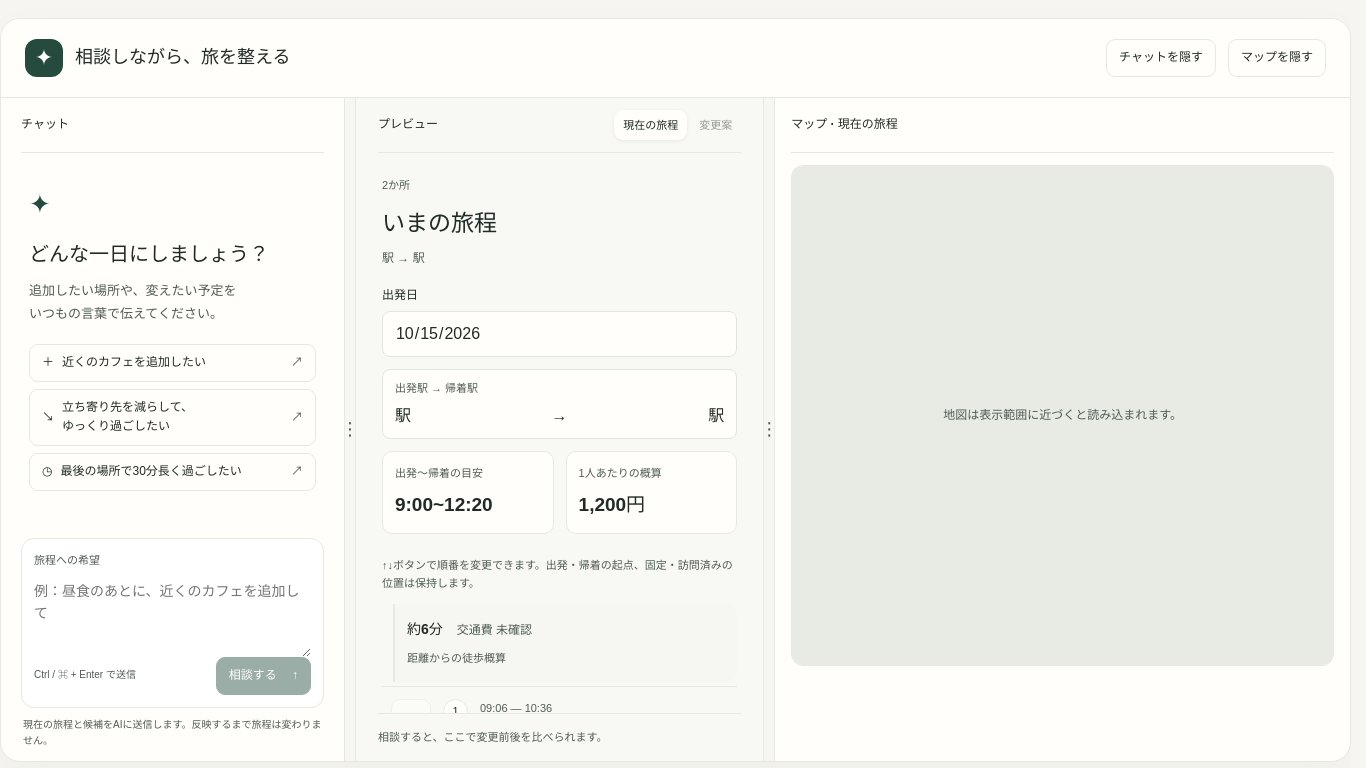
Test: JourneyChat › shows unavailable status without applying a fallback edit
In the text box labelled "旅程への希望": (172, 613) [34,570,311,657], type "休憩したい"
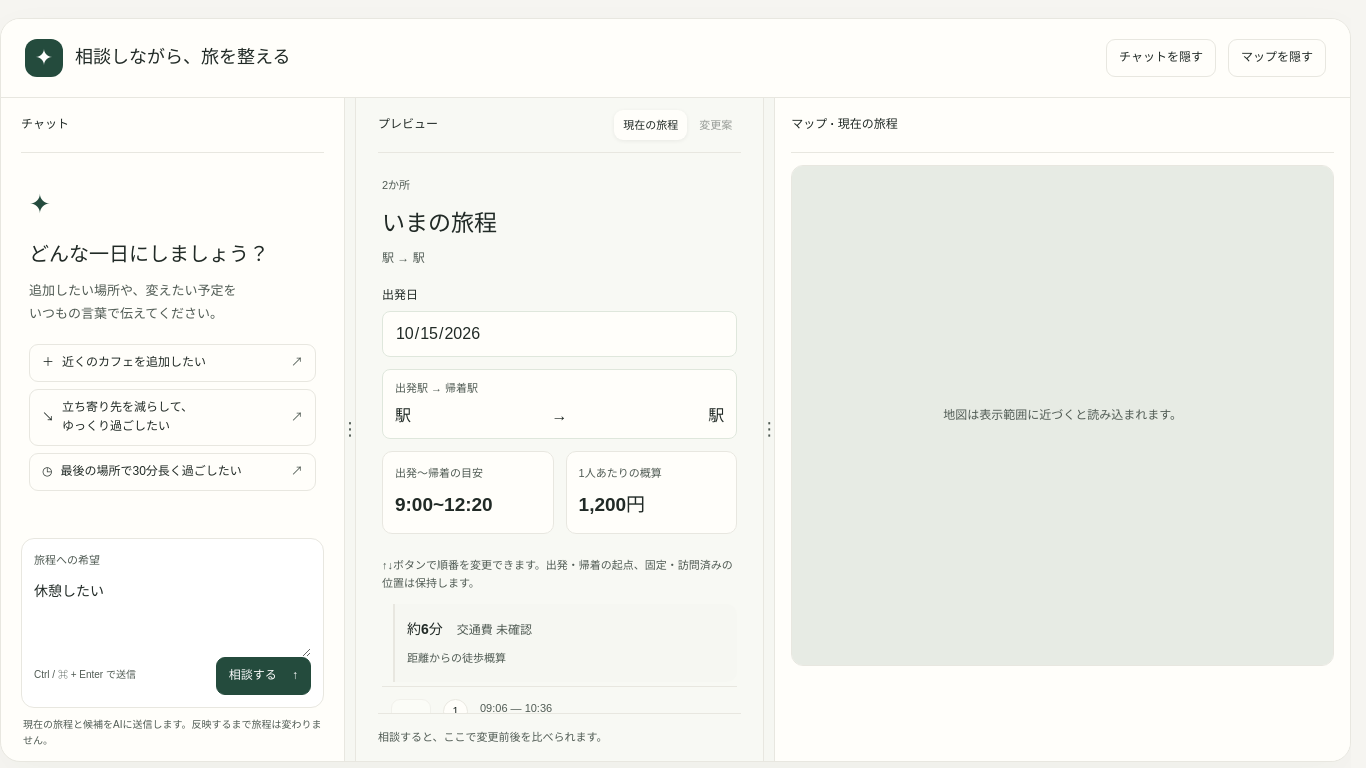
Click the button "相談する ↑": click(263, 676) [216,657,311,695]
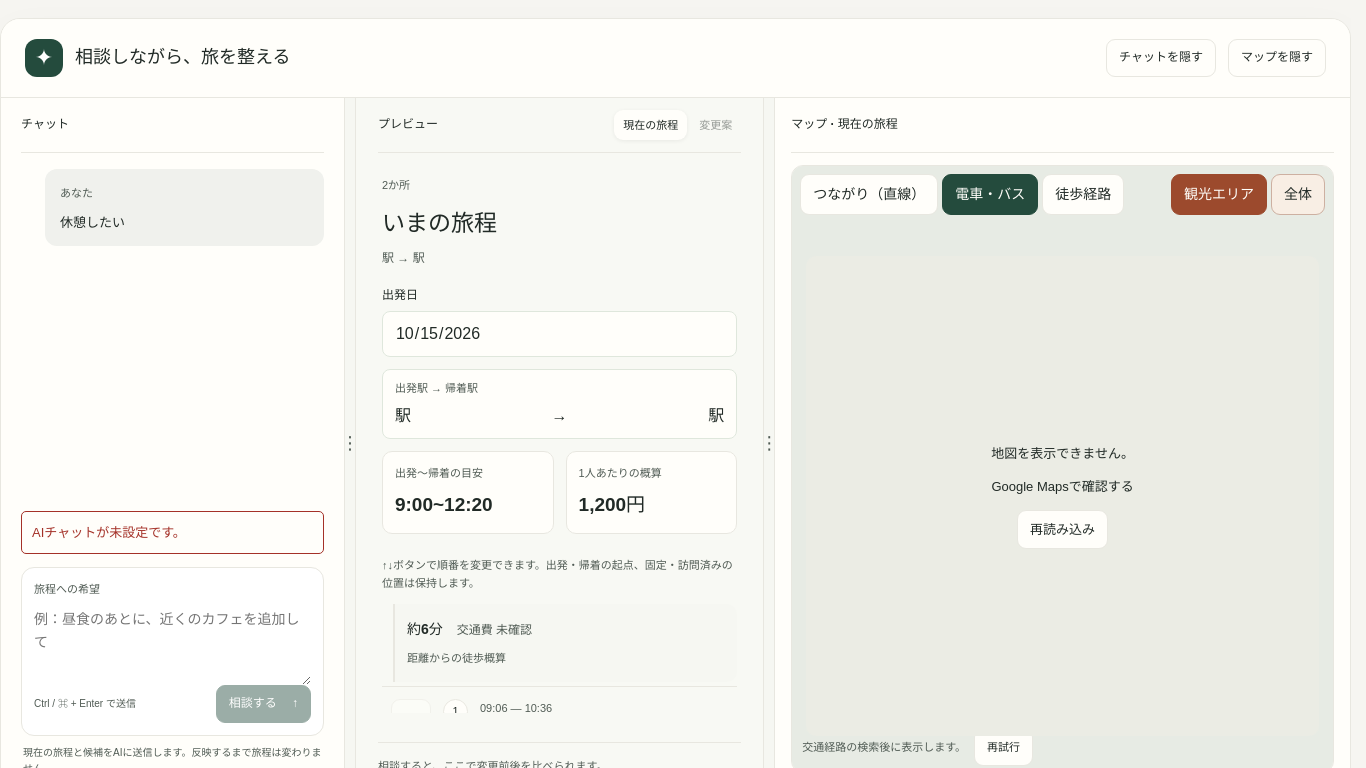
Result: the message "AIチャットが未設定です。" is shown at [21,510,324,554]
